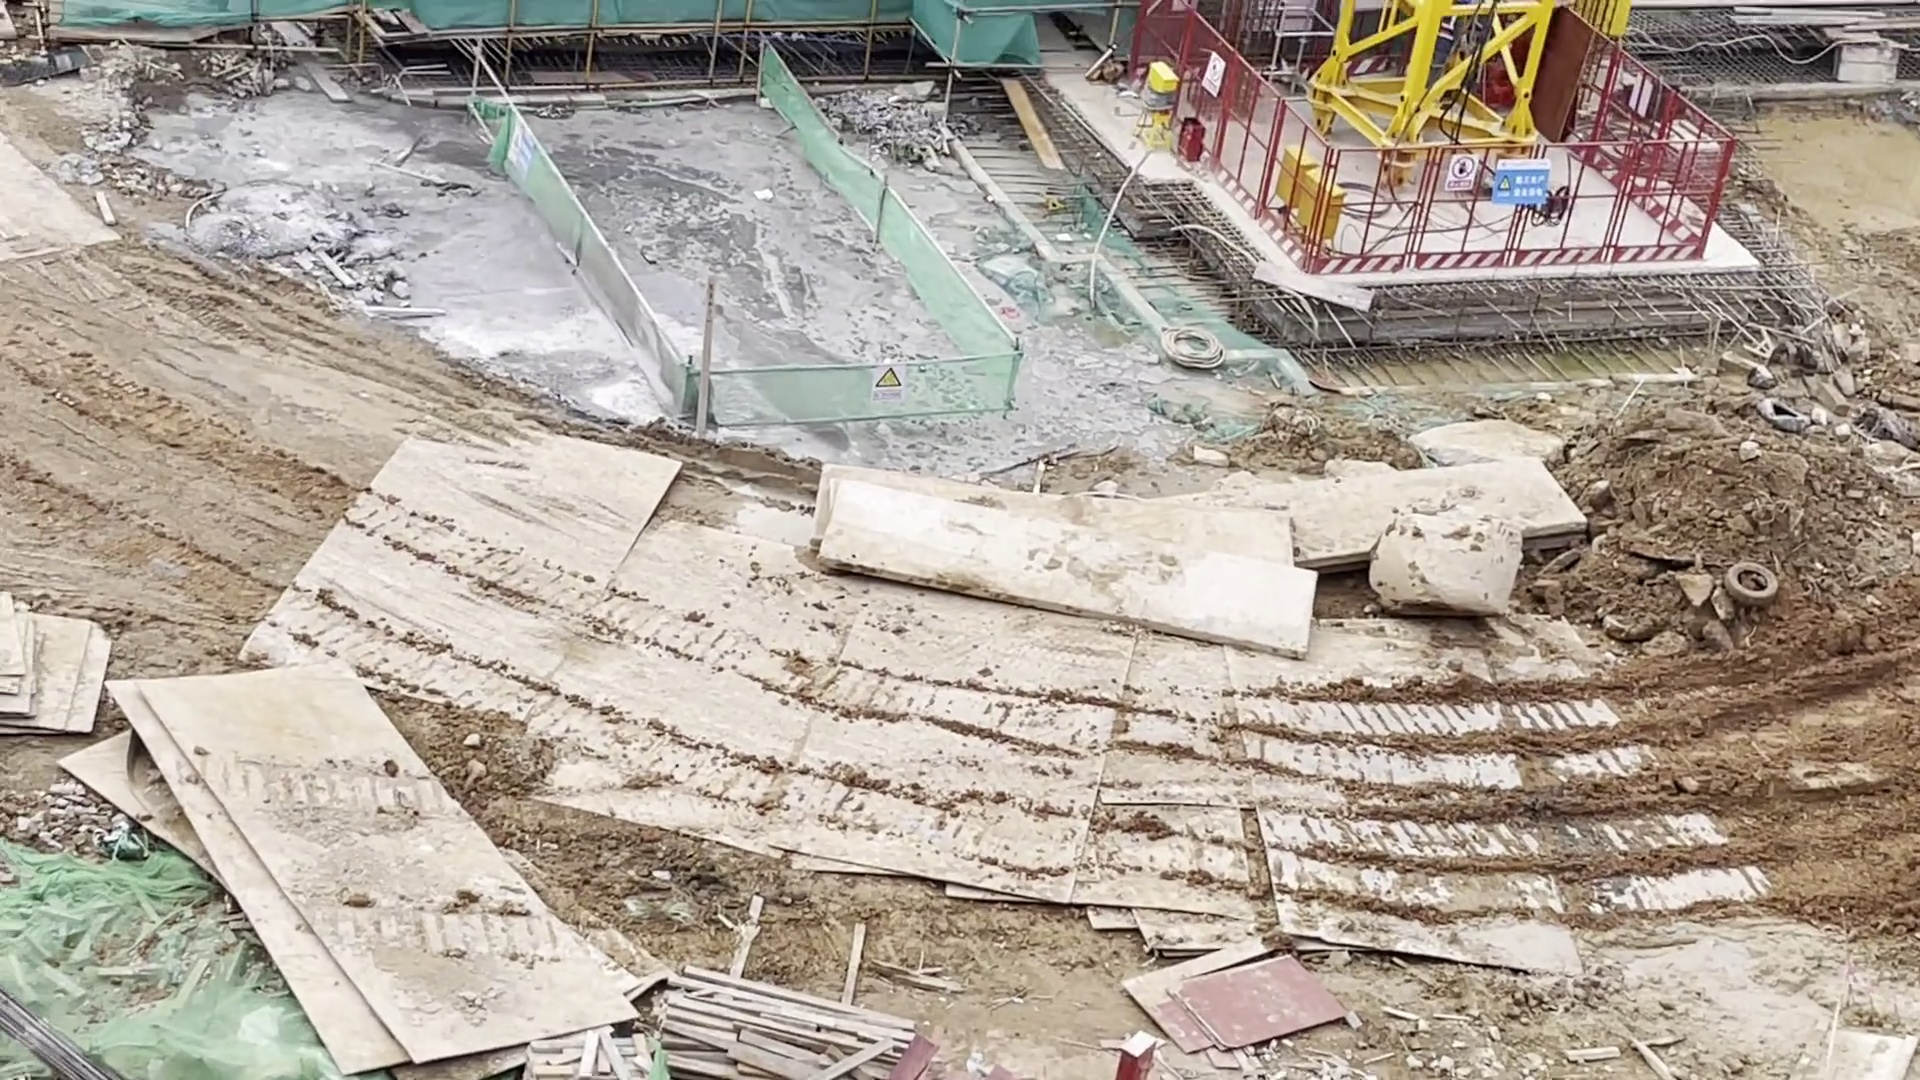ebox: (1276, 141, 1346, 243), (1138, 59, 1180, 152)
slogan: (1491, 160, 1551, 200), (501, 117, 535, 181), (1443, 154, 1480, 193), (873, 365, 905, 404)
